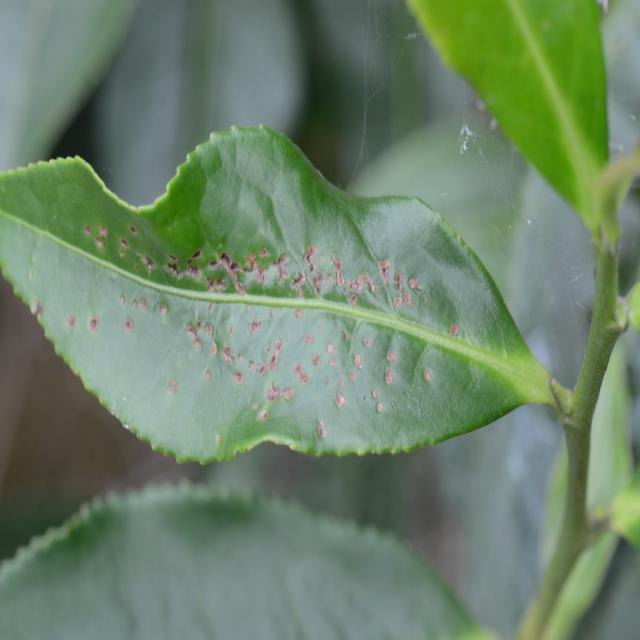Tea red scab: (64, 222, 458, 419)
